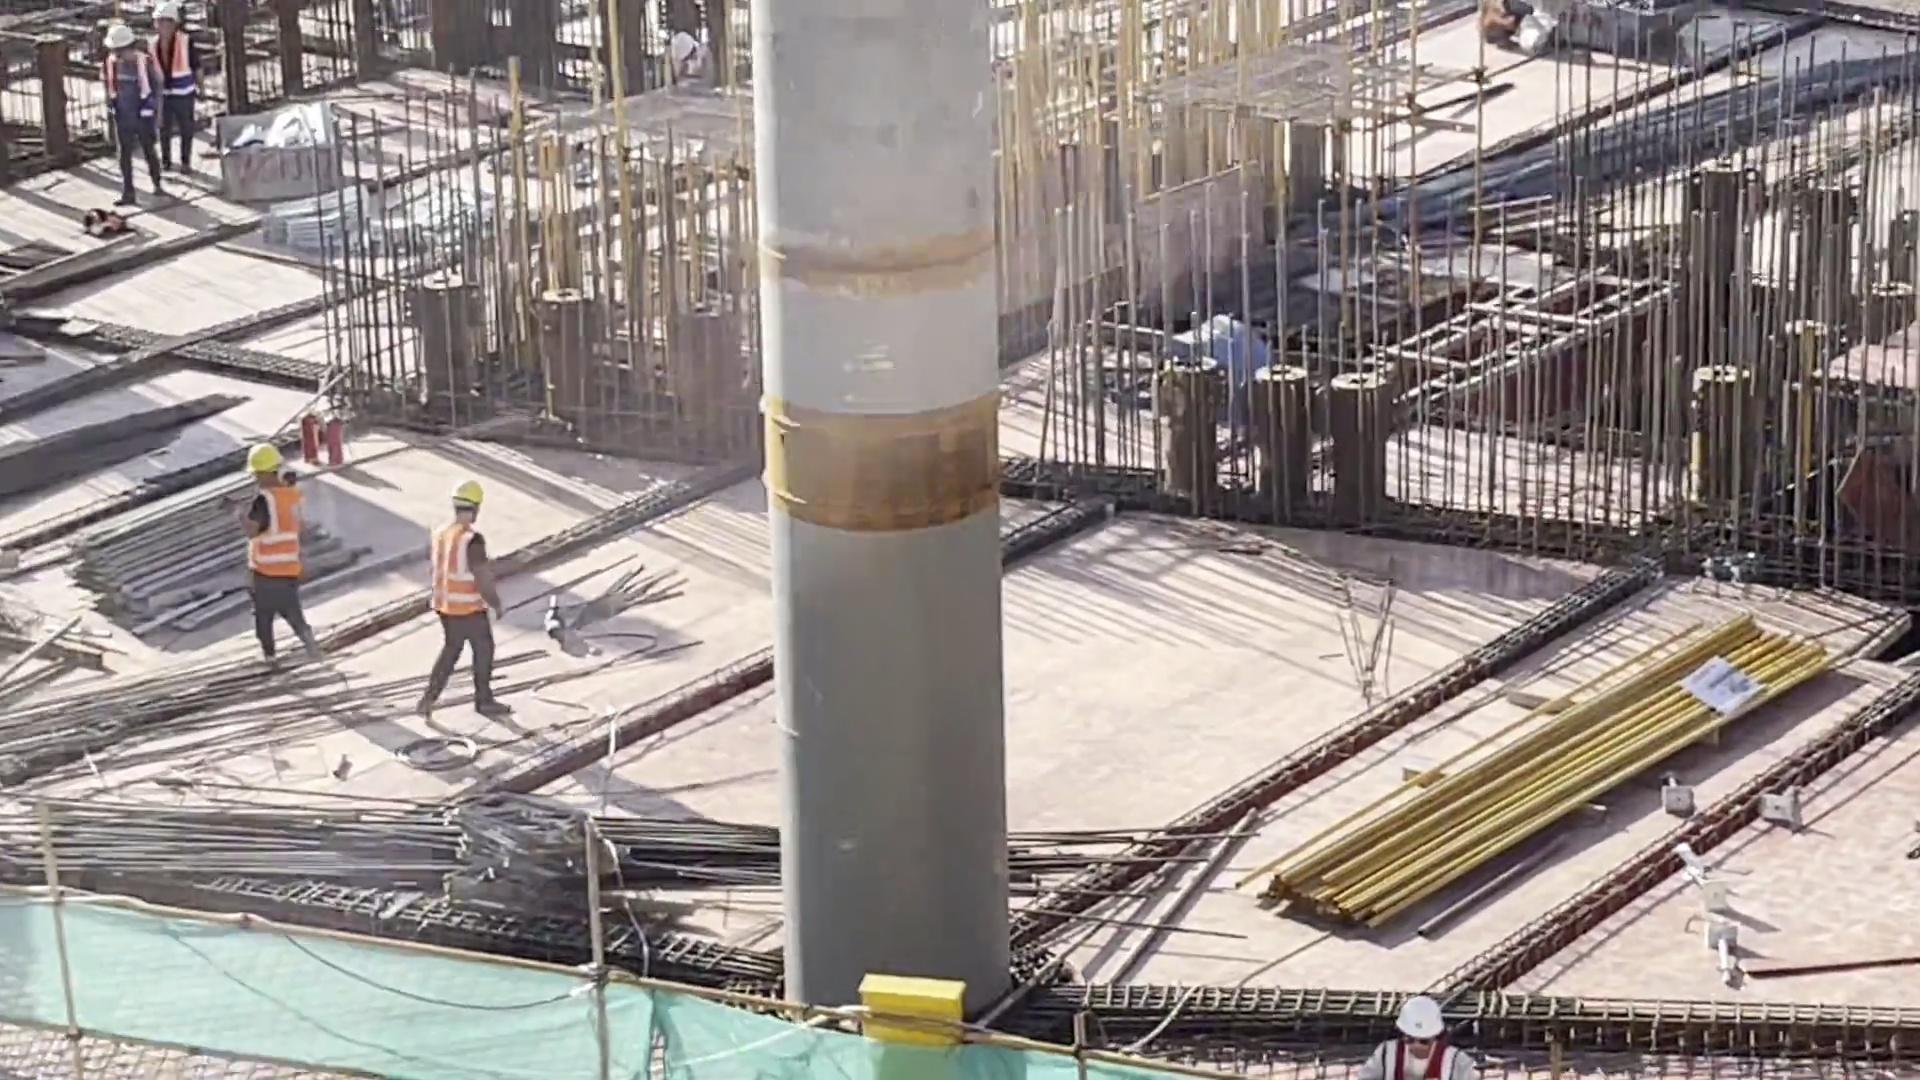helmet: (1388, 989, 1447, 1043), (245, 442, 283, 478), (142, 1, 183, 34), (448, 475, 479, 518), (104, 22, 138, 45)
person: (225, 430, 326, 675), (417, 465, 507, 720), (86, 5, 175, 205), (142, 1, 203, 168), (1374, 979, 1472, 1080)
vest: (244, 486, 304, 583), (431, 524, 485, 615), (145, 31, 200, 89), (102, 64, 148, 108)
